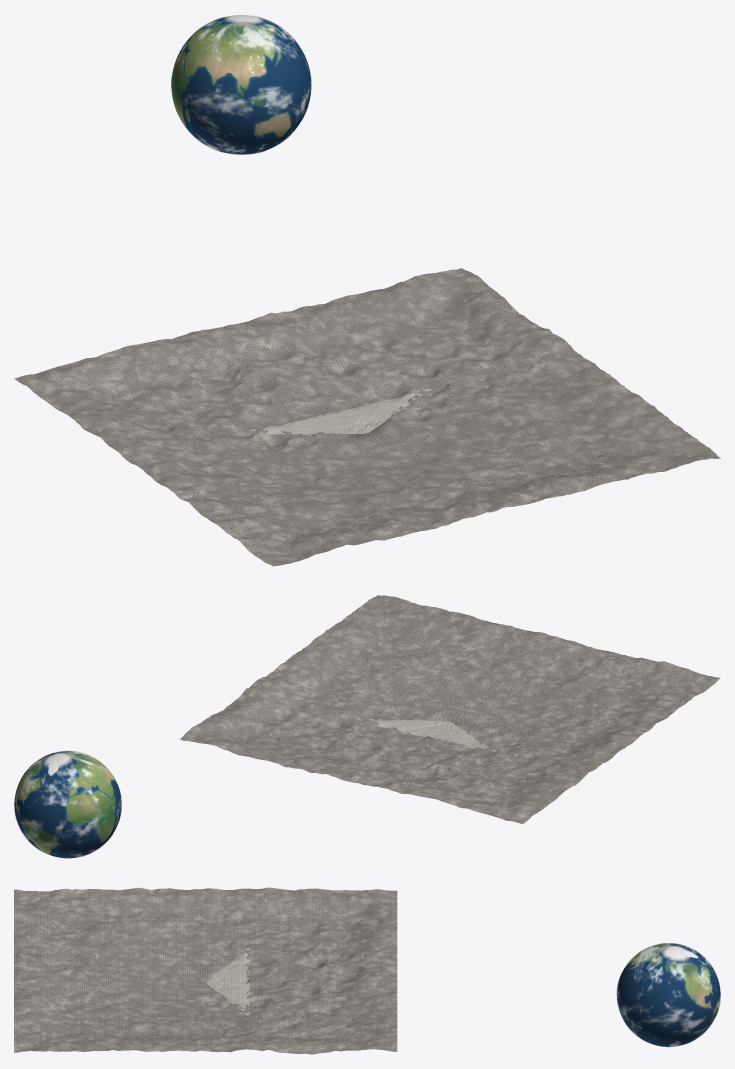
Rendered from lunar_environment_v4_tablet.glb.
The picture shows the model from 3 angles, top to bottom: view 1: azimuth 30°, elevation 25°; view 2: azimuth 150°, elevation 25°; view 3: azimuth 270°, elevation 25°; orthographic projection. The views are drawn at different scales.
Visible parts, largest first — view 1: Lunar_Mountains_Far, Earth_Globe, Earth_CloudLayer, Lunar_Terrain_Near; view 2: Lunar_Mountains_Far, Earth_Globe, Earth_CloudLayer, Lunar_Terrain_Near; view 3: Lunar_Mountains_Far, Earth_Globe, Earth_CloudLayer, Lunar_Terrain_Near.
Part boxes in pixels (x1,y1,x2,y2): Lunar_Mountains_Far: (14,268,720,566); Earth_Globe: (171,15,311,154); Earth_CloudLayer: (171,17,311,153); Lunar_Terrain_Near: (249,388,431,434); Lunar_Mountains_Far: (179,595,720,823); Earth_Globe: (14,751,121,858); Earth_CloudLayer: (14,750,121,858); Lunar_Terrain_Near: (356,719,496,751); Lunar_Mountains_Far: (14,887,397,1054); Earth_Globe: (617,943,720,1046); Earth_CloudLayer: (616,942,720,1047); Lunar_Terrain_Near: (206,948,249,1015).
Size of the model in its own units: 7358 by 2117 by 12895.
Materials: 6 (3 with a texture image).
